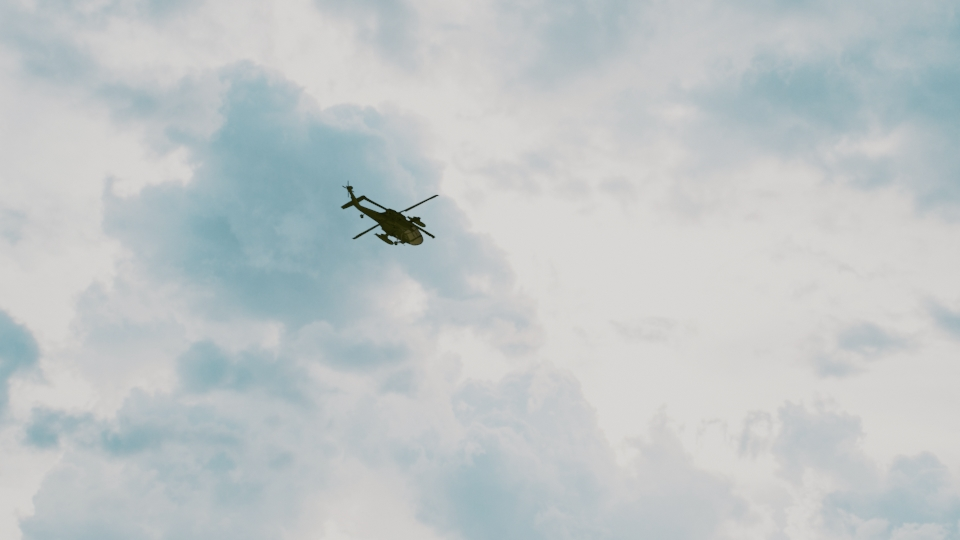heli: (341, 183, 440, 245)
